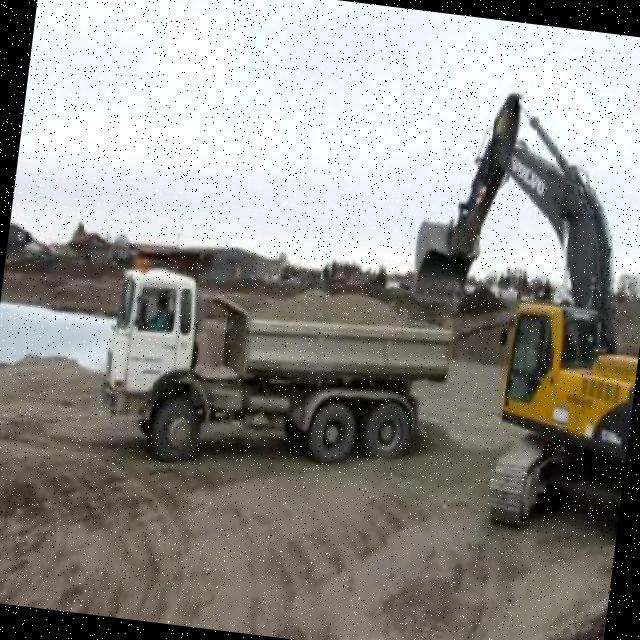Dump Truck: (92, 252, 458, 494)
Excavator: (380, 80, 640, 548)
